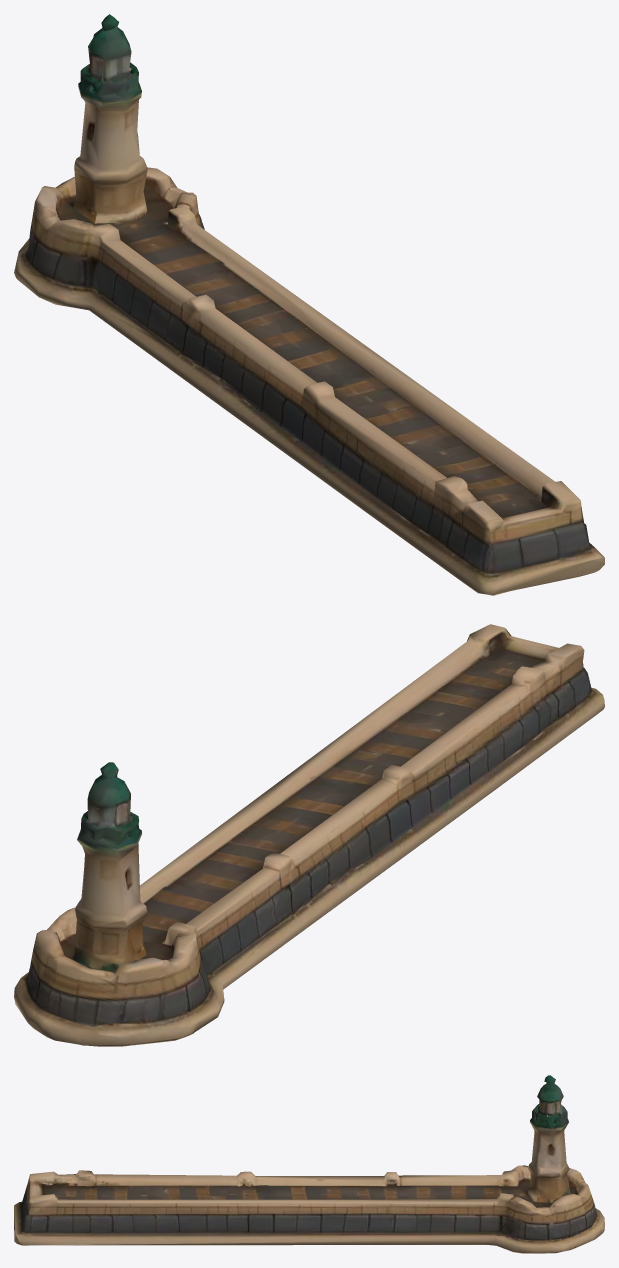
The model's file is switzerland-jet-d-eau.lod.glb.
The picture shows the model from 3 angles, top to bottom: view 1: azimuth 30°, elevation 25°; view 2: azimuth 150°, elevation 25°; view 3: azimuth 270°, elevation 25°; orthographic projection. The views are drawn at different scales.
Parts seen in each view (by area): view 1: textured_mesh.obj; view 2: textured_mesh.obj; view 3: textured_mesh.obj.
Part boxes in pixels (left/top/right/bottom): textured_mesh.obj: left=14, top=14, right=604, bottom=595; textured_mesh.obj: left=14, top=624, right=604, bottom=1046; textured_mesh.obj: left=14, top=1075, right=604, bottom=1253.
Bounding box in the file's own units: 0.7593 × 1 × 3.51.
1 material, 1 textured.
